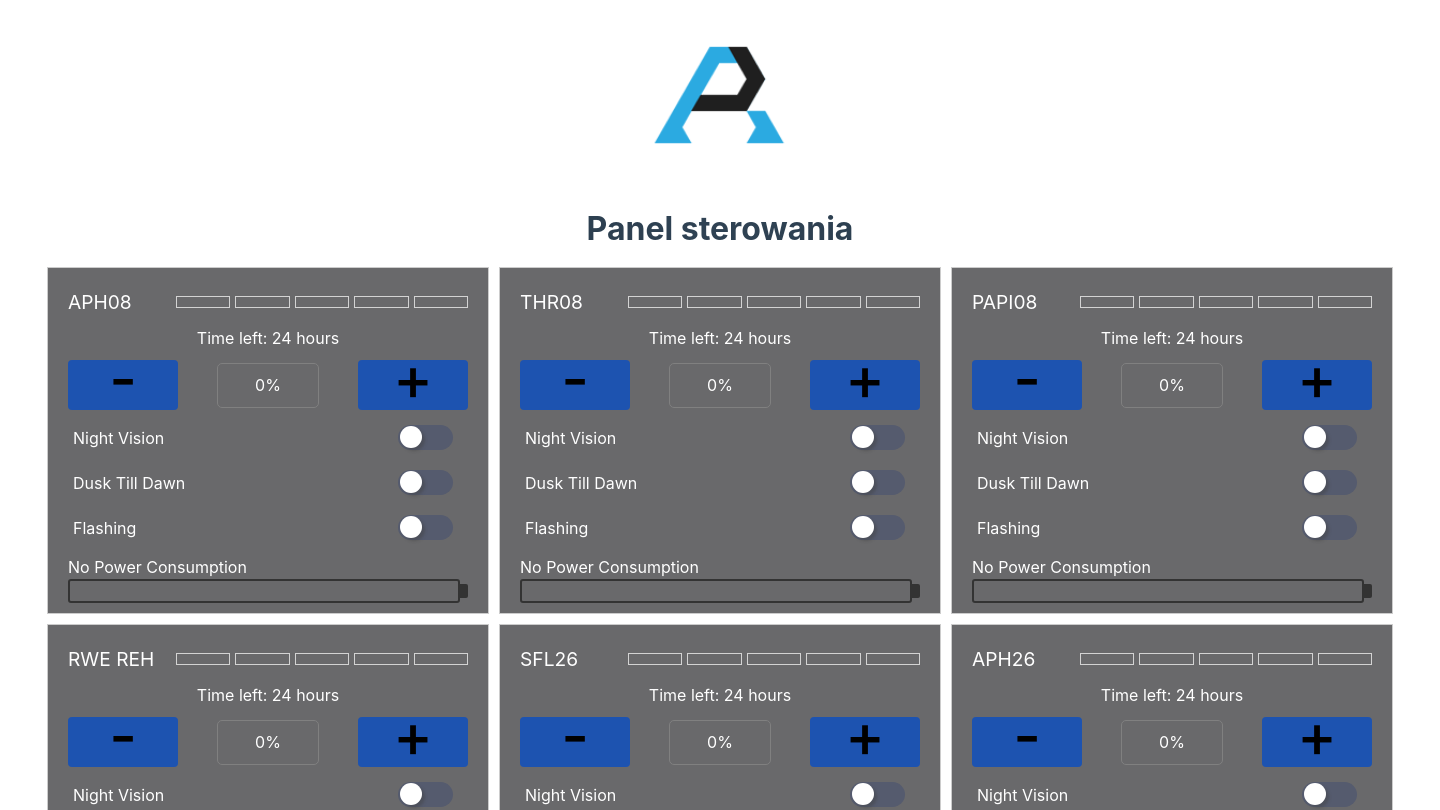
Scenario: App Component › clicks the first plus button, then the minus button, and checks for updated text
Click the button "+" below "APH08". click: point(413, 385)
box: [358,360,468,410]
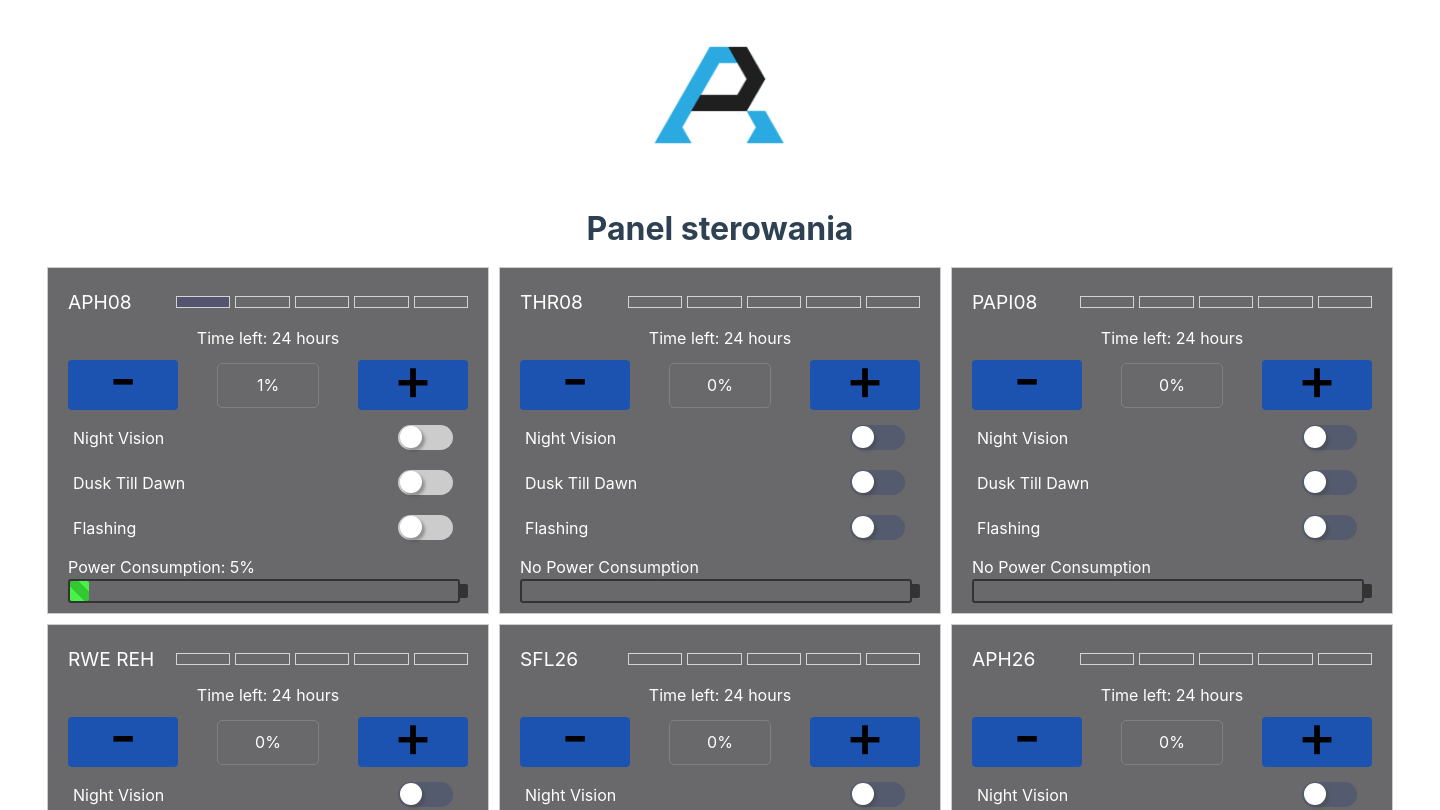
Click the button "+" below "APH08". click: point(413, 385)
box: [358,360,468,410]
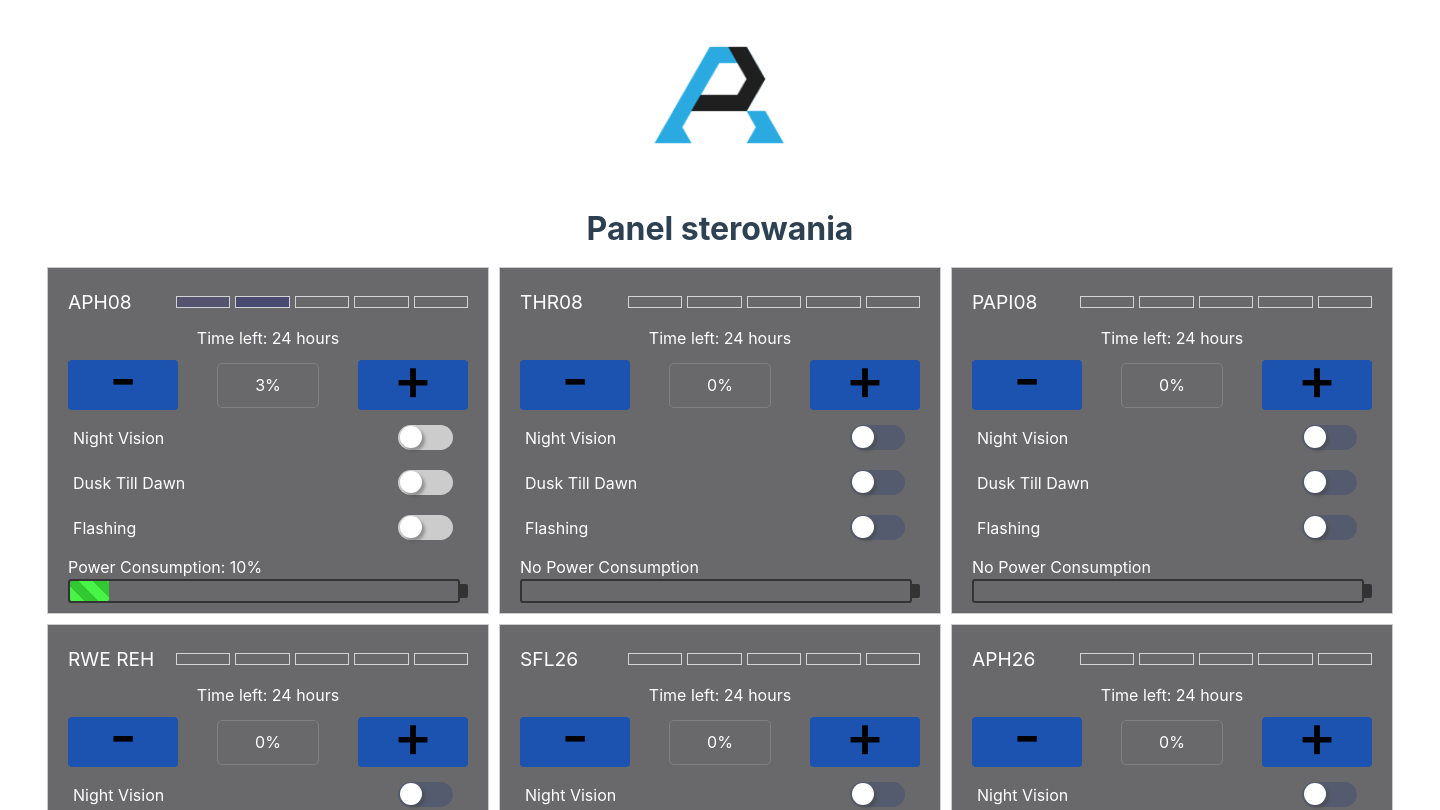
Now the text "3%" is shown, box [255,375,281,395]
Click the button "-" below "APH08". click: point(123, 385)
box: [68,360,178,410]
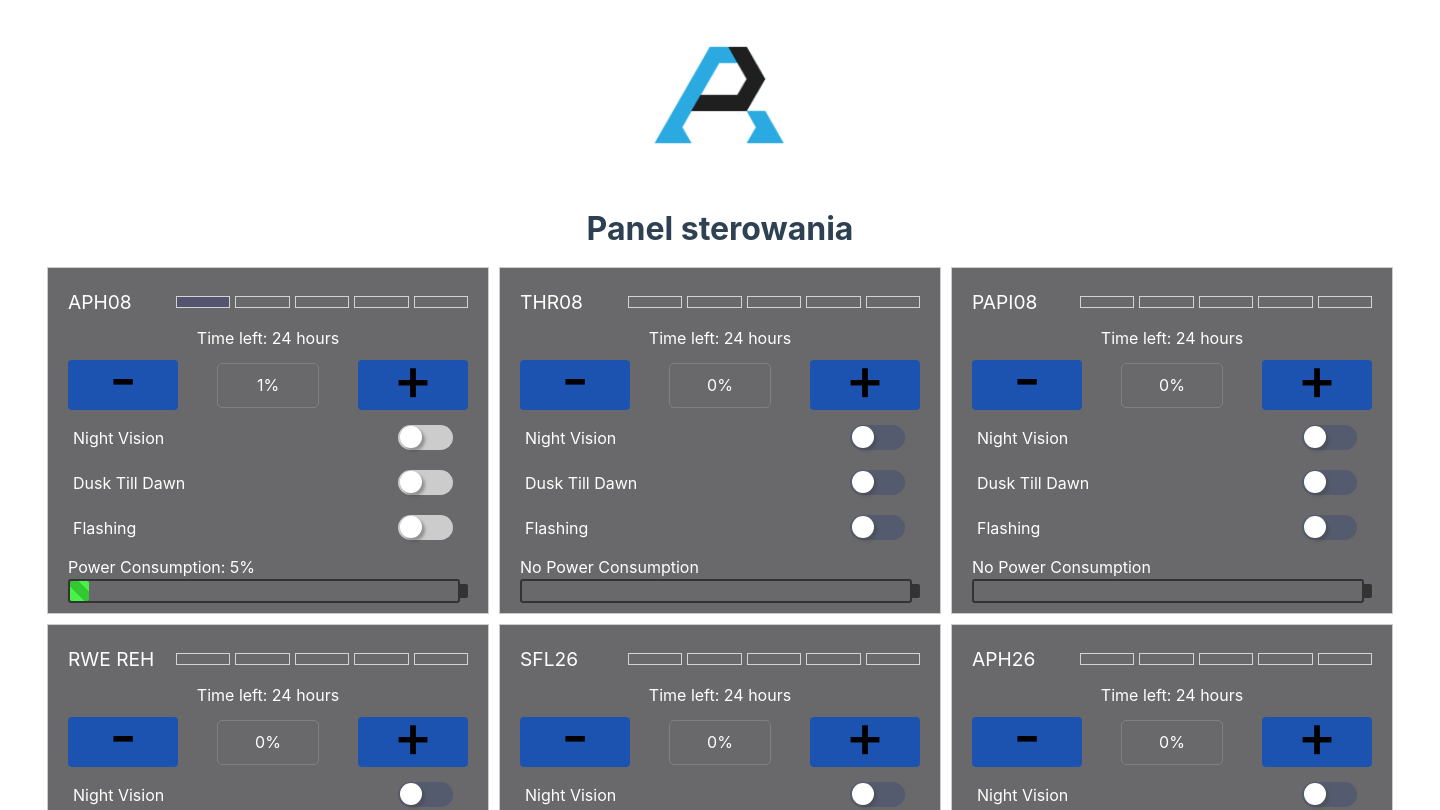
Now the text "1%" is shown, box [257,375,279,395]
